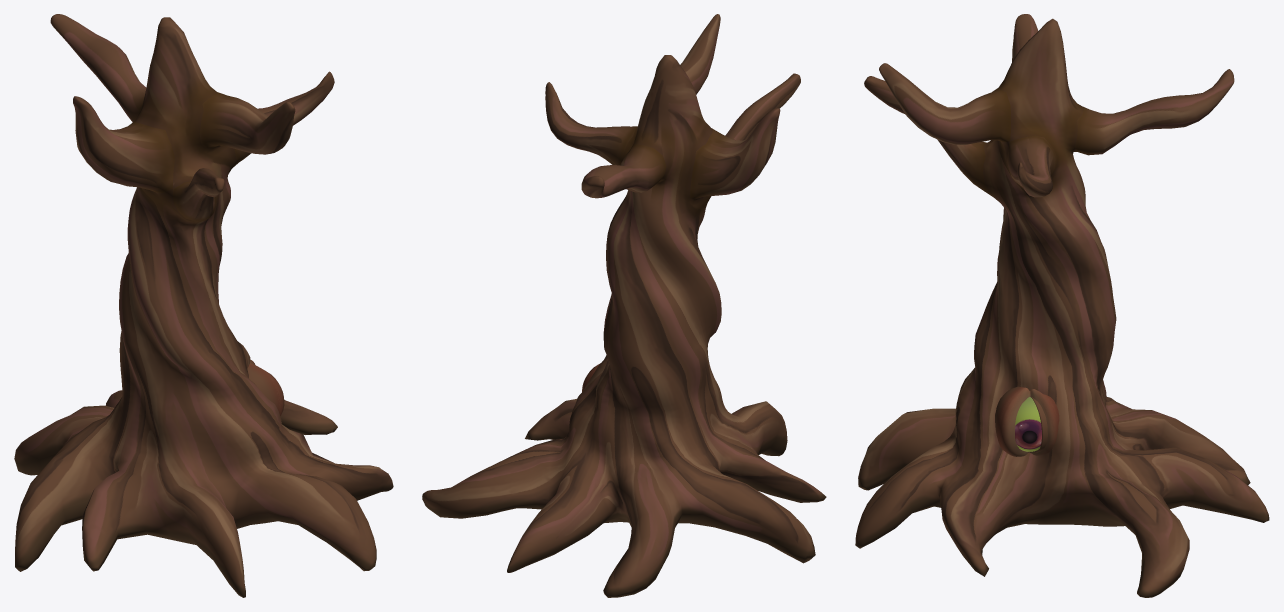
File: AngelTreeMain.fbx
3 views of the same model, side by side, from view 1: azimuth 30°, elevation 25°; view 2: azimuth 150°, elevation 25°; view 3: azimuth 270°, elevation 25° (orthographic). The views are drawn at different scales.
Parts seen in each view (by area): view 1: AngelTreeMain, AngelEyesocket; view 2: AngelTreeMain; view 3: AngelTreeMain, AngelEyesocket, AngelEyeball.
Boxes of the visible parts, x1,y1,x2,y2 form: AngelTreeMain: (14,14,393,597); AngelEyesocket: (247,359,284,415); AngelTreeMain: (422,14,826,597); AngelTreeMain: (855,14,1269,597); AngelEyesocket: (995,386,1059,456); AngelEyeball: (1015,397,1041,451).
Size of the model in its own units: 307 by 404 by 308.
2 materials, 2 textured.
